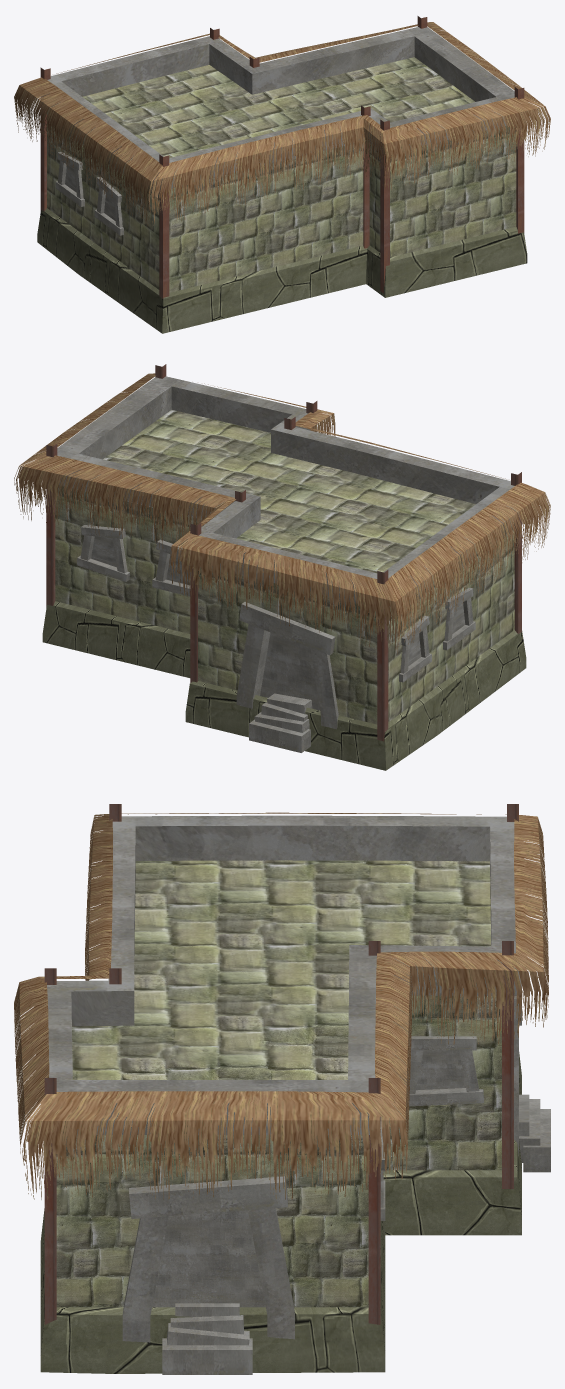
File: shrine.glb
3 renders of one model, top to bottom at view 1: azimuth 30°, elevation 25°; view 2: azimuth 150°, elevation 25°; view 3: azimuth 270°, elevation 25°, orthographic. The views are drawn at different scales.
Visible parts, largest first — view 1: stktex_generic_stoneWallA.png__, stktex_hayFiber_a.png__, stktex_generic_concreteA.png__, stktex_generic_aztekWall_a.png__, stktex_generic_bambooB.png__; view 2: stktex_generic_stoneWallA.png__, stktex_generic_concreteA.png__, stktex_hayFiber_a.png__, stktex_generic_aztekWall_a.png__, stktex_generic_bambooB.png__; view 3: stktex_generic_stoneWallA.png__, stktex_generic_concreteA.png__, stktex_hayFiber_a.png__, stktex_generic_aztekWall_a.png__, stktex_generic_bambooB.png__.
Part boxes in pixels (x1,y1,x2,y2): stktex_generic_stoneWallA.png__: (47,57,516,292); stktex_hayFiber_a.png__: (14,22,550,226); stktex_generic_concreteA.png__: (41,27,514,235); stktex_generic_aztekWall_a.png__: (37,208,527,333); stktex_generic_bambooB.png__: (40,16,524,298); stktex_generic_stoneWallA.png__: (55,410,514,724); stktex_generic_concreteA.png__: (57,376,518,752); stktex_hayFiber_a.png__: (14,373,550,654); stktex_generic_aztekWall_a.png__: (42,601,526,770); stktex_generic_bambooB.png__: (46,364,521,741); stktex_generic_stoneWallA.png__: (56,860,501,1307); stktex_generic_concreteA.png__: (47,815,550,1374); stktex_hayFiber_a.png__: (14,812,548,1199); stktex_generic_aztekWall_a.png__: (40,1052,521,1373); stktex_generic_bambooB.png__: (44,804,518,1324).
Size of the model in its own units: 11.51 by 5.02 by 8.34.
5 materials, 5 textured.
